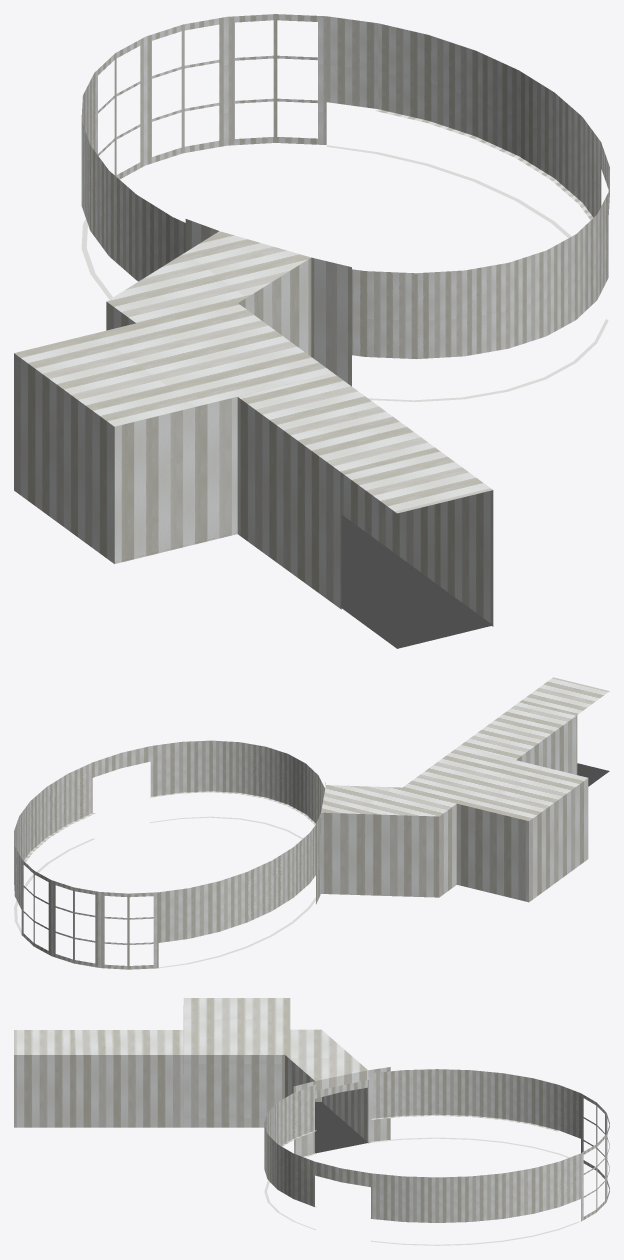
File: partyroomhalwaysRemodel.fbx
3 views of the same model, one above another, from view 1: azimuth 30°, elevation 25°; view 2: azimuth 150°, elevation 25°; view 3: azimuth 270°, elevation 25° (orthographic). The views are drawn at different scales.
Visible parts, largest first — view 1: Wall__7_, walls, Wall__7__001; view 2: Wall__7_, walls; view 3: Wall__7_, walls, Wall__7__001.
Boxes of the visible parts, x1=… form: Wall__7_: x1=14, y1=219, x2=493, y2=626; walls: x1=81, y1=14, x2=609, y2=401; Wall__7__001: x1=341, y1=515, x2=492, y2=648; Wall__7_: x1=316, y1=677, x2=609, y2=904; walls: x1=14, y1=740, x2=324, y2=969; Wall__7_: x1=14, y1=998, x2=390, y2=1156; walls: x1=264, y1=1069, x2=609, y2=1245; Wall__7__001: x1=315, y1=1102, x2=368, y2=1153.
Bounding box in the file's own units: 1952 × 378 × 2794.
